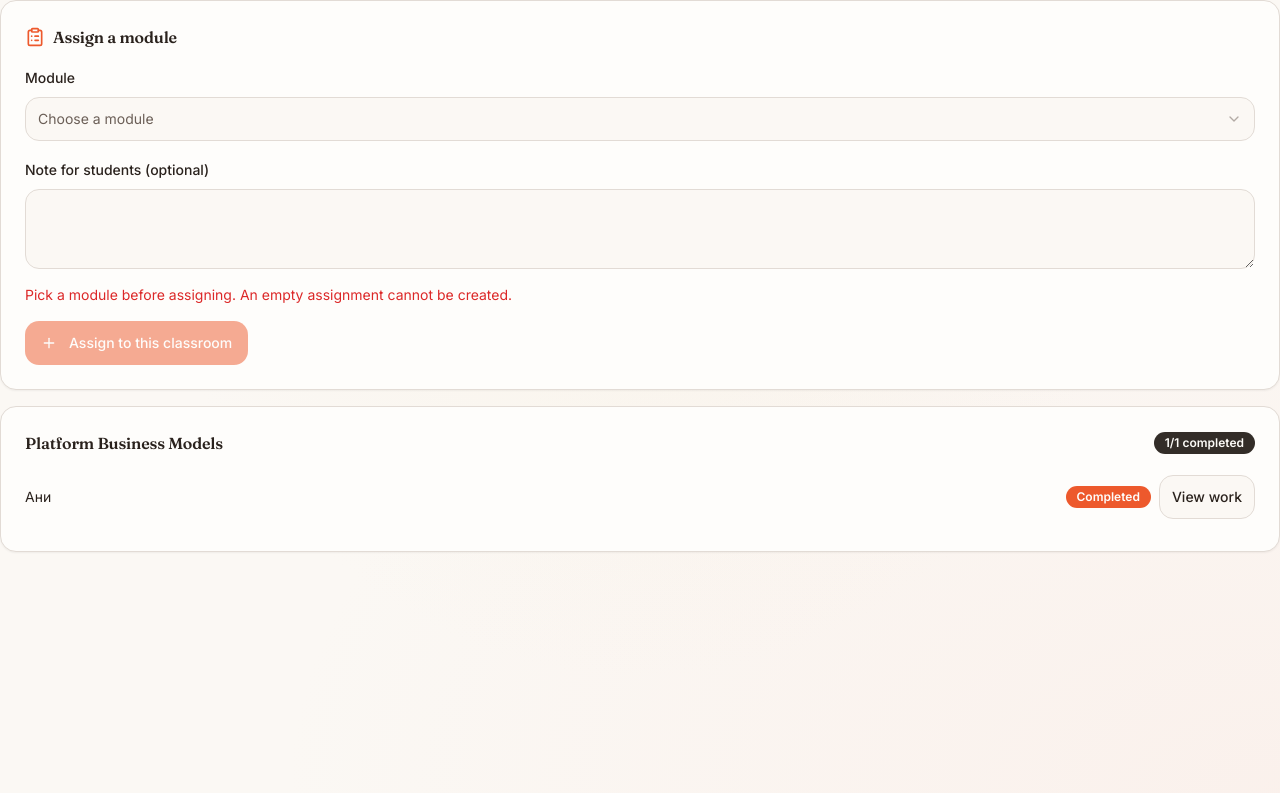
4. teacher rubric panel is Teacher Workspace only › is absent for a module without a teacher pack
Click the button "View work" at [1207, 497], box 1159,475 -> 1255,519
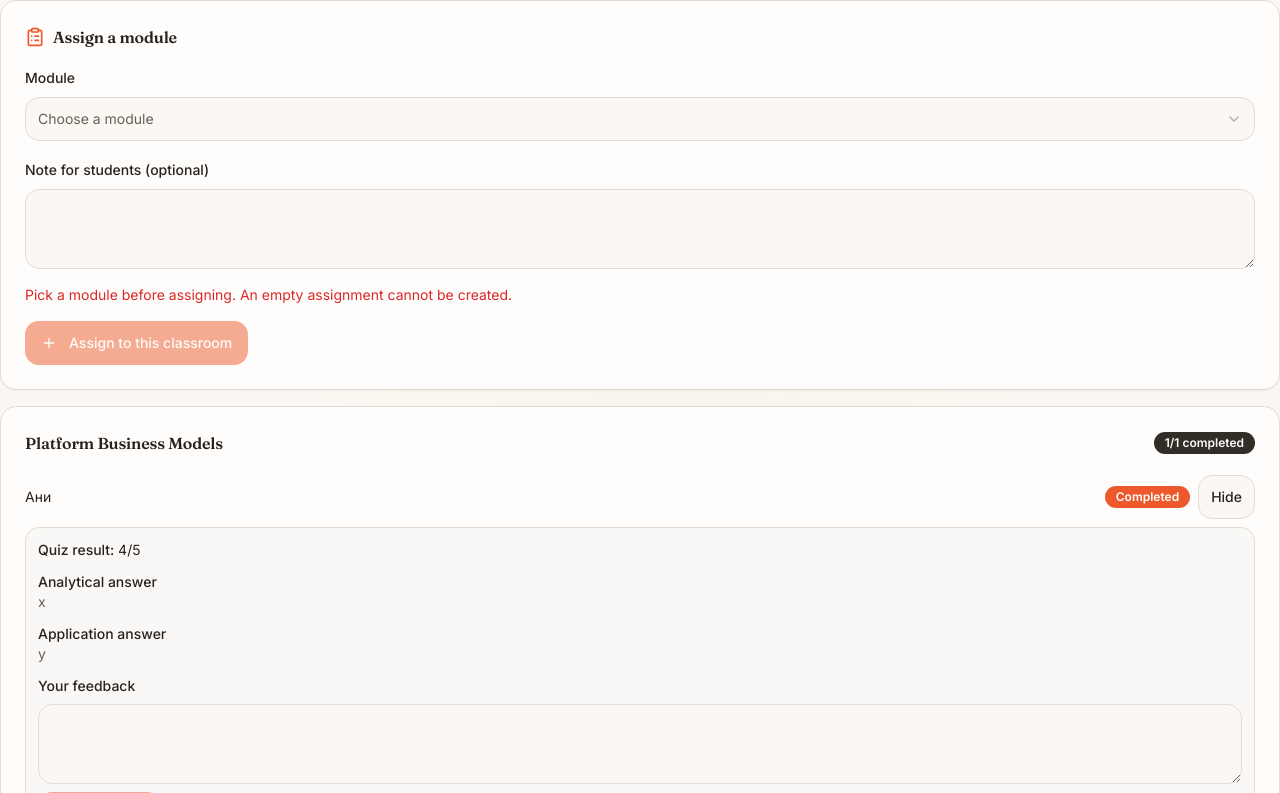
Expected: the text box labelled "Your feedback" is shown, 38,704 -> 1242,784
